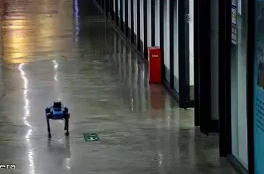robot dog: (43, 99, 71, 138)
